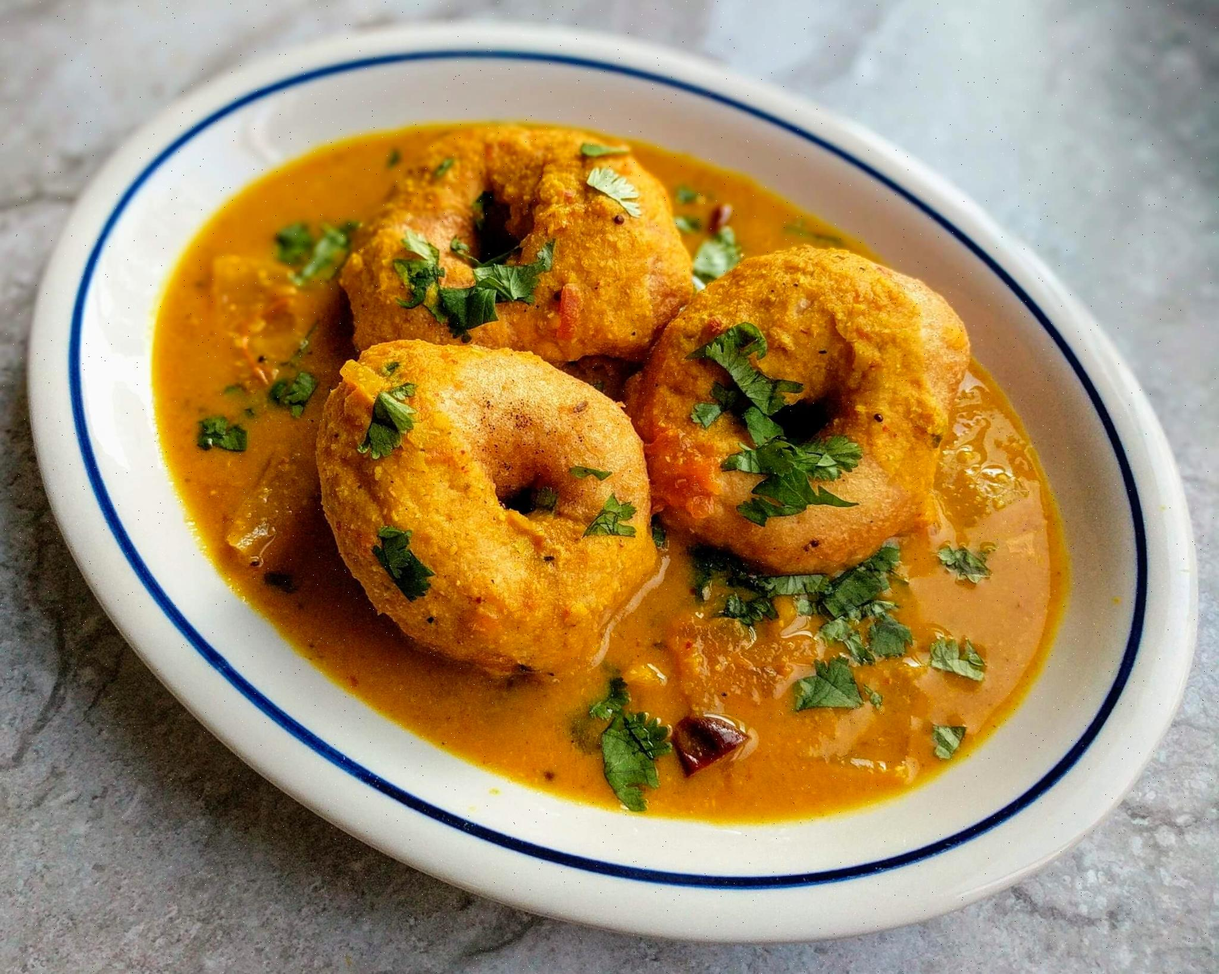medu vada: (310, 140, 984, 730)
